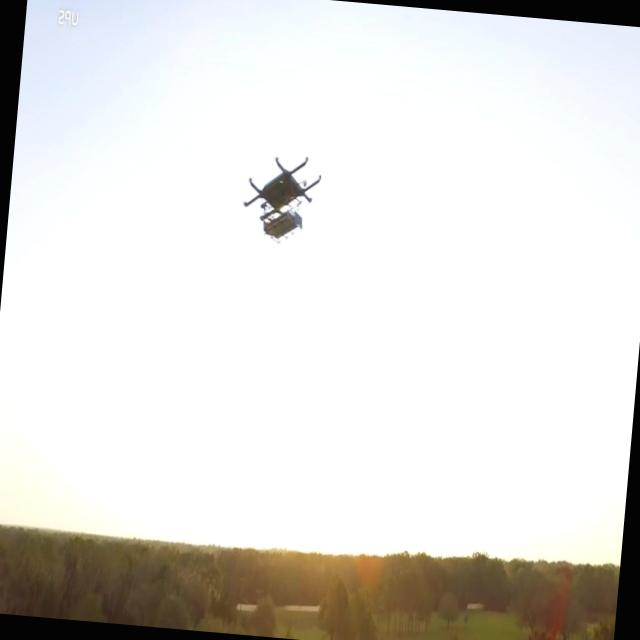drone: (238, 147, 324, 245)
